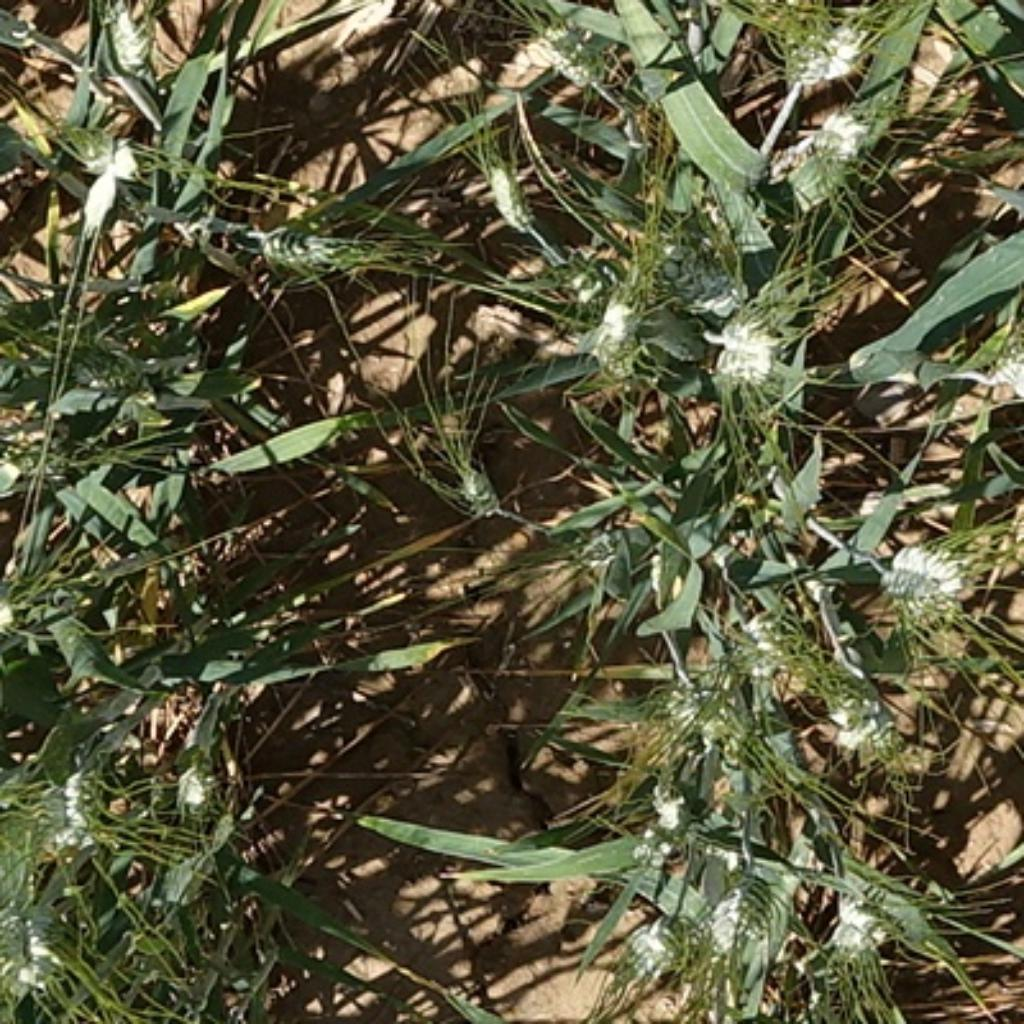0-0: (814, 655, 929, 788), (680, 860, 788, 985), (773, 89, 893, 199), (706, 593, 837, 688), (243, 212, 409, 281), (532, 235, 645, 335), (23, 742, 120, 855), (757, 0, 870, 87), (824, 872, 924, 970), (622, 235, 747, 312), (870, 527, 972, 619), (611, 911, 704, 1011), (2, 898, 84, 1011), (145, 734, 238, 821), (58, 109, 150, 194), (529, 2, 624, 84), (642, 686, 747, 760), (629, 791, 727, 870), (570, 296, 652, 386), (706, 302, 785, 391), (89, 0, 161, 81), (468, 143, 537, 227), (445, 448, 514, 529), (972, 317, 1024, 404), (668, 0, 752, 2)
